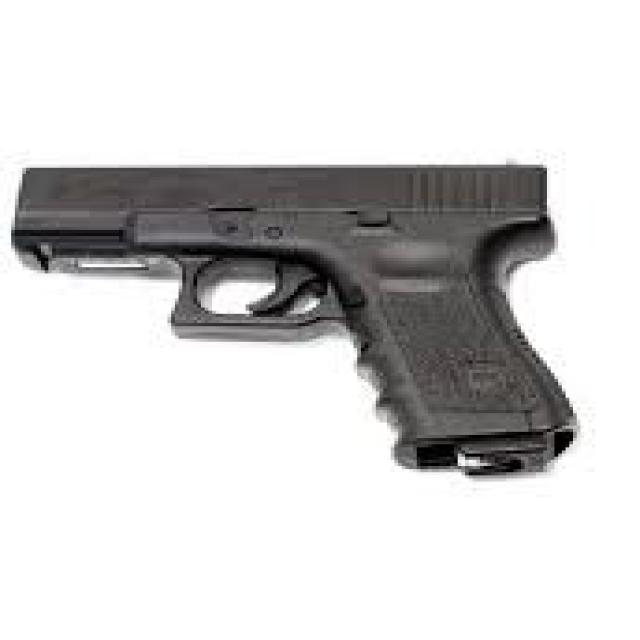pistol: (2, 158, 596, 488)
